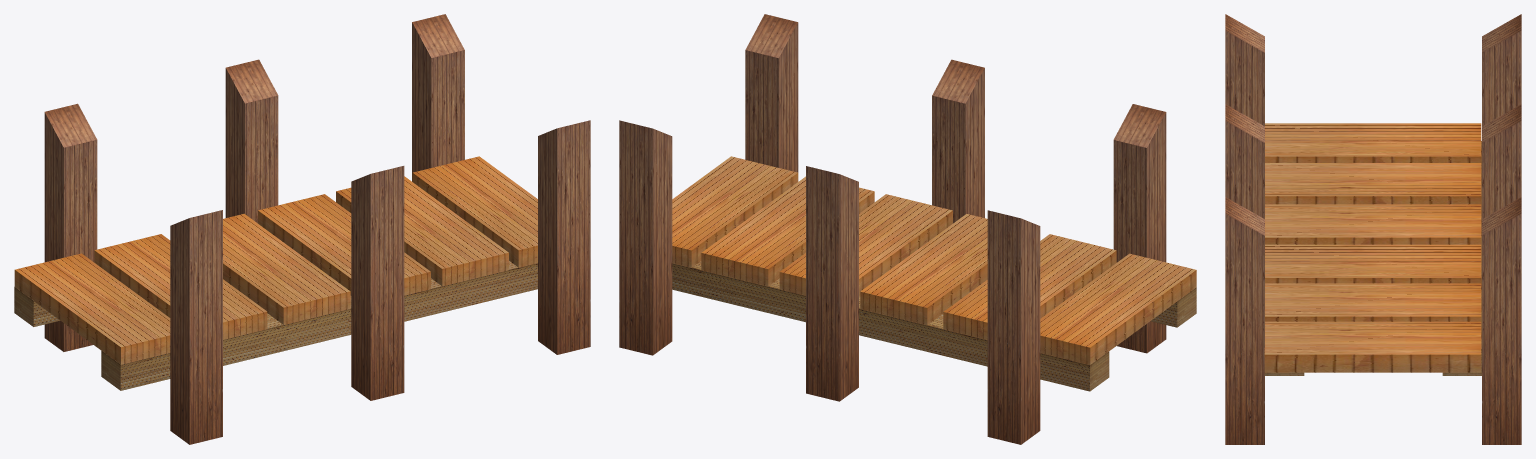
File: PuenteMadera.fbx
The picture shows the model from 3 angles, left to right: view 1: azimuth 30°, elevation 25°; view 2: azimuth 150°, elevation 25°; view 3: azimuth 270°, elevation 25°; orthographic projection. The views are drawn at different scales.
Parts seen in each view (by area): view 1: Box049, Box045, Box055, Box039, Box037, Box046, Box041, Box050, Box056, Box042, Box043, Box044 (+2 smaller); view 2: Box056, Box046, Box050, Box039, Box038, Box045, Box041, Box055, Box049, Box042, Box043, Box044 (+2 smaller); view 3: Box042, Box055, Box056, Box040, Box041, Box039, Box044, Box043, Box049, Box050, Box045, Box046 (+1 smaller).
Part boxes in pixels (<box>): Box049: <box>351,166,404,400</box>; Box045: <box>170,210,222,444</box>; Box055: <box>538,120,590,354</box>; Box039: <box>14,253,170,364</box>; Box037: <box>101,261,537,390</box>; Box046: <box>44,103,97,351</box>; Box041: <box>223,213,350,324</box>; Box050: <box>225,59,278,223</box>; Box056: <box>412,14,464,181</box>; Box042: <box>412,156,537,267</box>; Box043: <box>336,176,508,286</box>; Box044: <box>258,194,430,295</box>; Box056: <box>619,120,672,355</box>; Box046: <box>987,210,1040,444</box>; Box050: <box>806,166,858,401</box>; Box039: <box>1040,253,1196,364</box>; Box038: <box>672,261,1109,391</box>; Box045: <box>1113,104,1166,353</box>; Box041: <box>860,214,987,324</box>; Box055: <box>745,14,798,172</box>; Box049: <box>932,59,984,223</box>; Box042: <box>672,156,798,267</box>; Box043: <box>701,176,874,286</box>; Box044: <box>779,194,952,296</box>; Box042: <box>1264,321,1481,372</box>; Box055: <box>1225,197,1264,444</box>; Box056: <box>1482,197,1521,444</box>; Box040: <box>1265,163,1481,204</box>; Box041: <box>1265,204,1481,244</box>; Box039: <box>1265,123,1481,162</box>; Box044: <box>1265,244,1481,283</box>; Box043: <box>1265,283,1481,321</box>; Box049: <box>1225,104,1264,218</box>; Box050: <box>1482,104,1521,218</box>; Box045: <box>1225,14,1264,126</box>; Box046: <box>1482,14,1521,126</box>.
Bounding box in the file's own units: 278 × 130 × 150.
